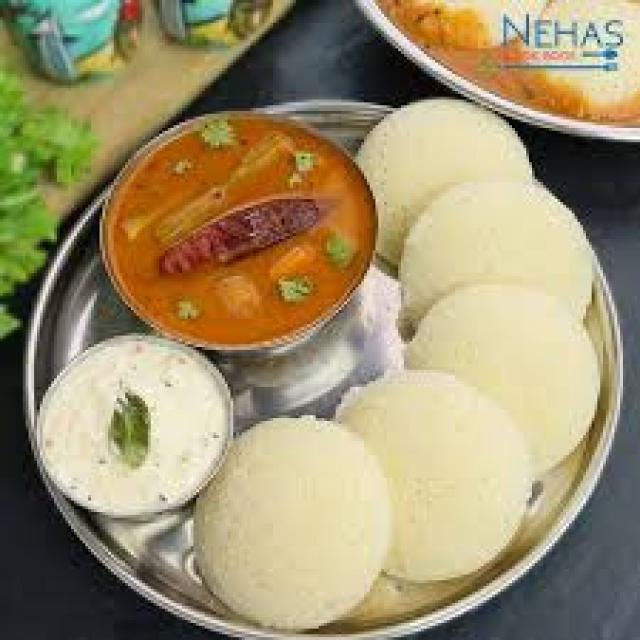IDLI: (195, 412, 391, 629), (330, 374, 532, 584), (414, 280, 597, 469), (400, 182, 597, 327), (362, 104, 532, 266)
